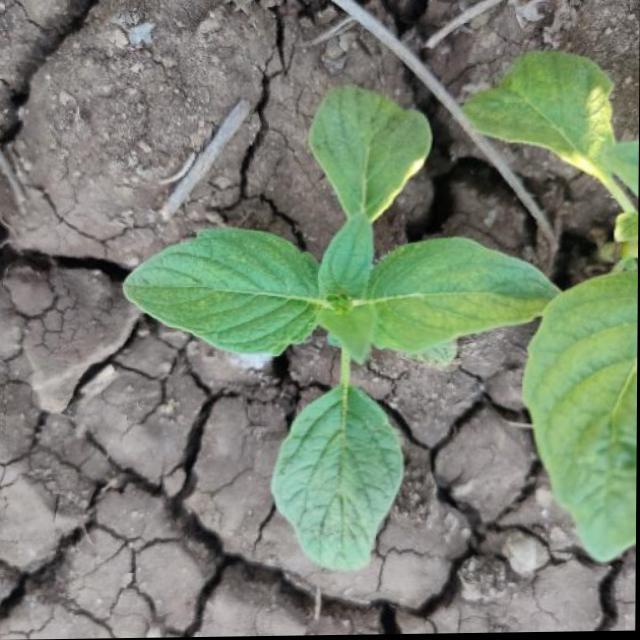crop: (126, 87, 549, 557)
